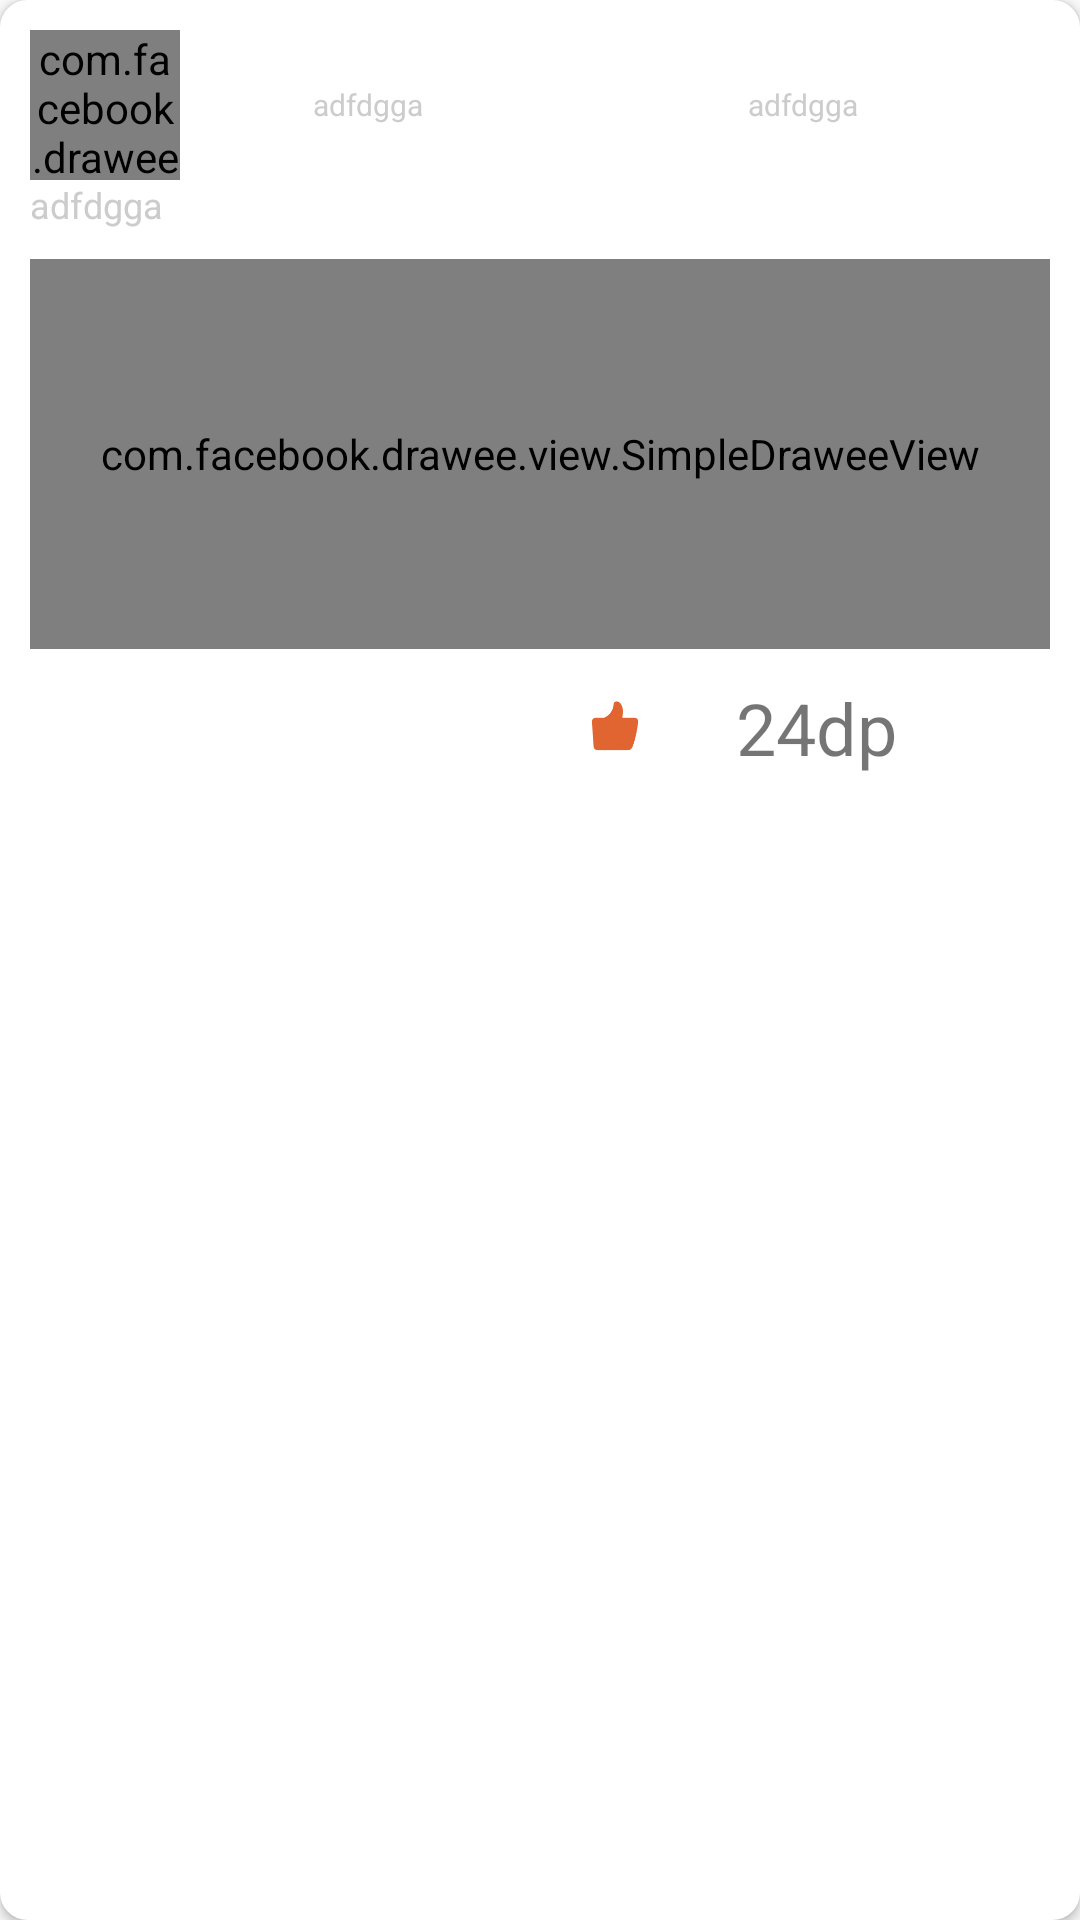

Locate icon controls on the screen. Image size 1080w x 1920h, boxes as region(x1, y1, x2, y2).
dianzan: region(592, 701, 638, 750)
